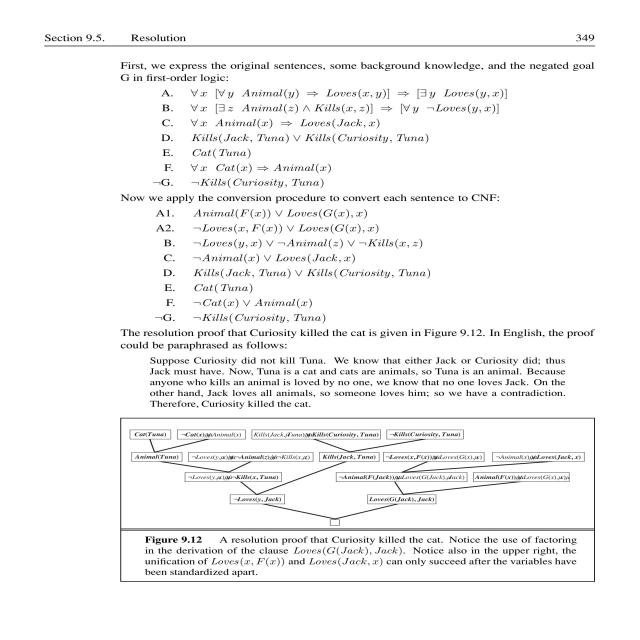diagram: (110, 405, 640, 640)
